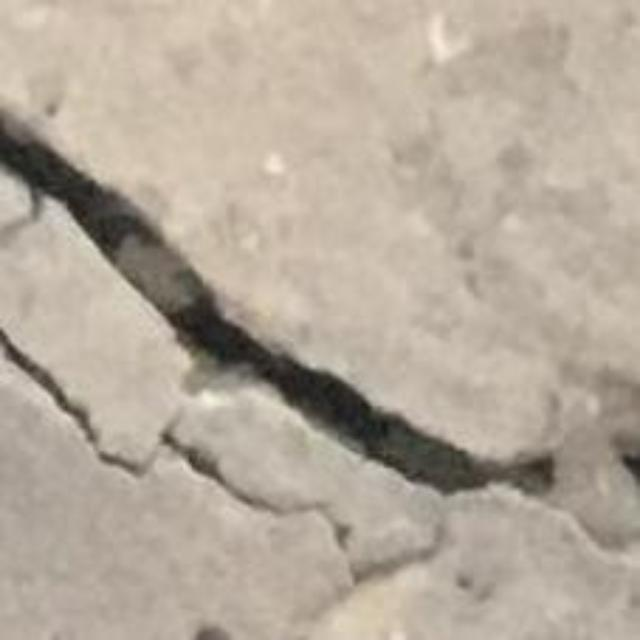crack: (0, 110, 558, 496)
